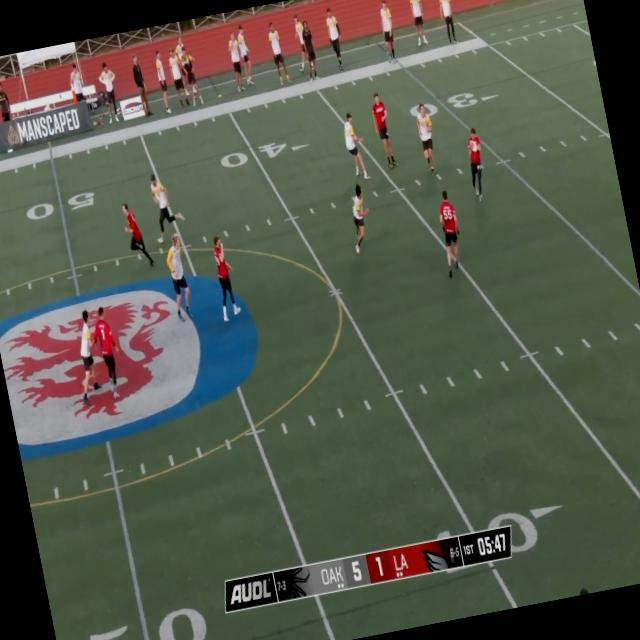Disc: (469, 140, 478, 152)
Player: (70, 307, 121, 397), (162, 233, 200, 321), (209, 235, 244, 319), (146, 171, 184, 243), (409, 102, 444, 178), (436, 194, 469, 274), (340, 111, 376, 184), (121, 198, 157, 270), (369, 92, 401, 172), (344, 184, 380, 253), (463, 127, 494, 200)
